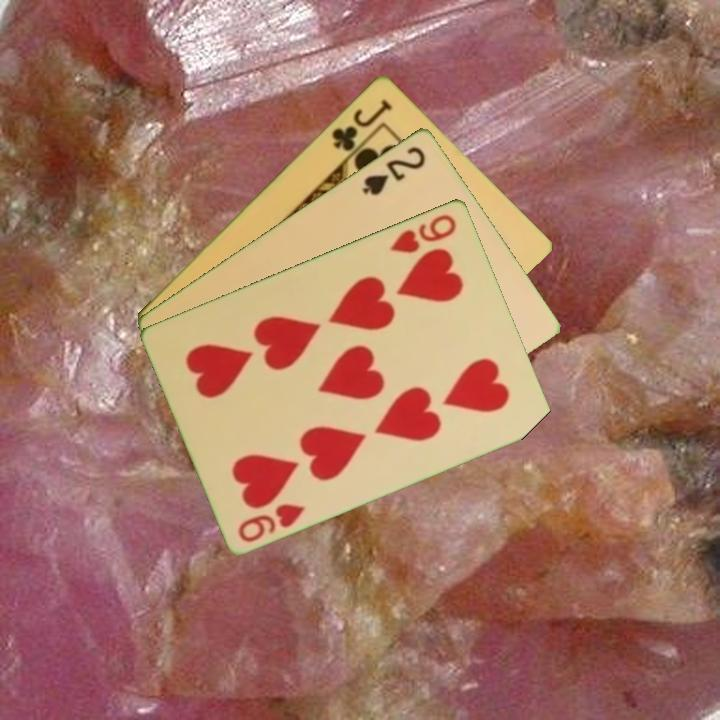2s: (358, 142, 429, 198)
9h: (234, 499, 309, 545), (386, 210, 460, 256)
Jc: (327, 95, 395, 154)
